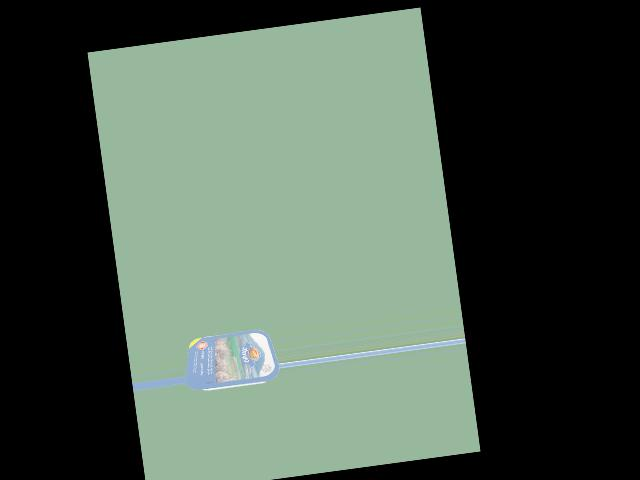cheese: (190, 325, 274, 398)
